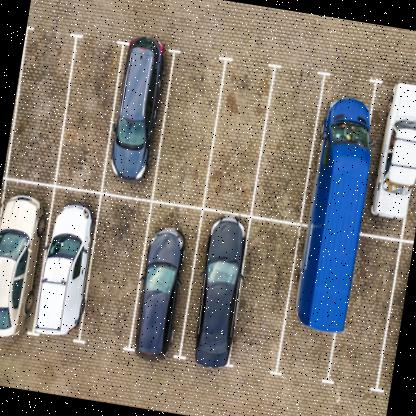Car: (288, 93, 380, 341), (104, 17, 180, 192), (183, 209, 249, 382), (20, 200, 92, 358), (128, 217, 196, 372), (0, 179, 54, 343), (369, 76, 415, 228)
Empty: (6, 19, 78, 182), (154, 47, 228, 203), (250, 63, 324, 215), (80, 197, 147, 354), (56, 30, 122, 189), (229, 222, 296, 375), (333, 234, 398, 386), (201, 63, 269, 208)
